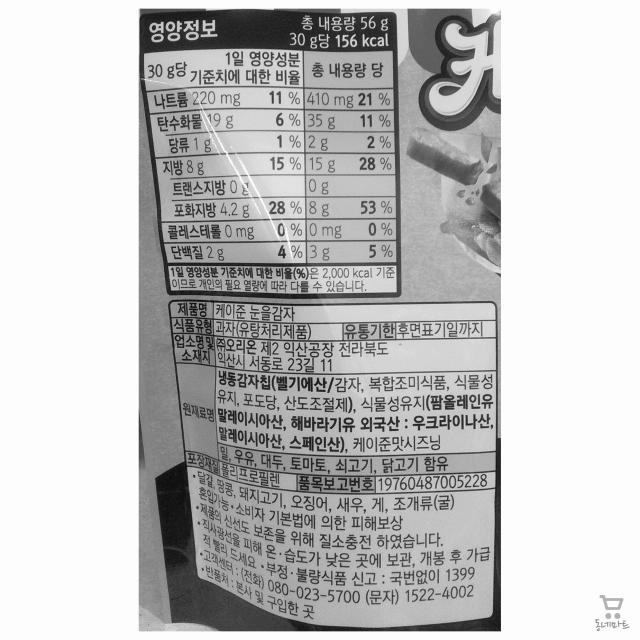Nutrition Label: (133, 6, 414, 300)
